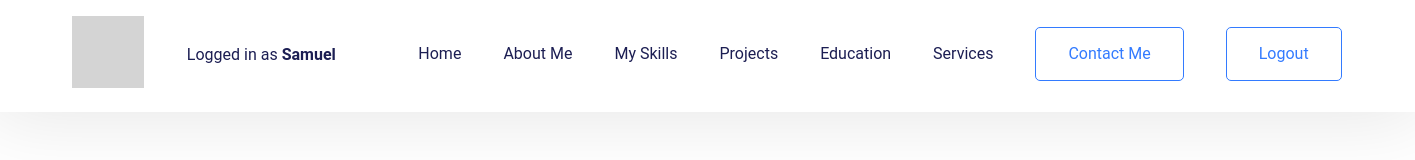
Navbar E2E Tests › logs out user
Click the button "Logout" at [1284, 54], box [1226,27,1342,81]
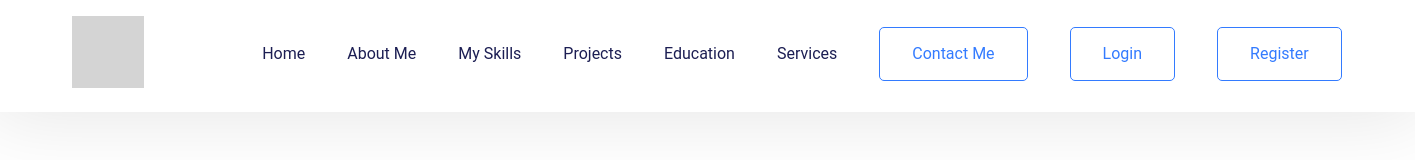
Check: the link "Login" is shown, box [1070,27,1175,81]
Check: the link "Register" is shown, box [1217,27,1342,81]
